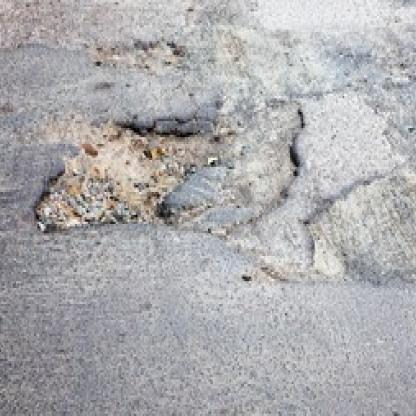pothole: (36, 124, 208, 233), (92, 37, 184, 73)
